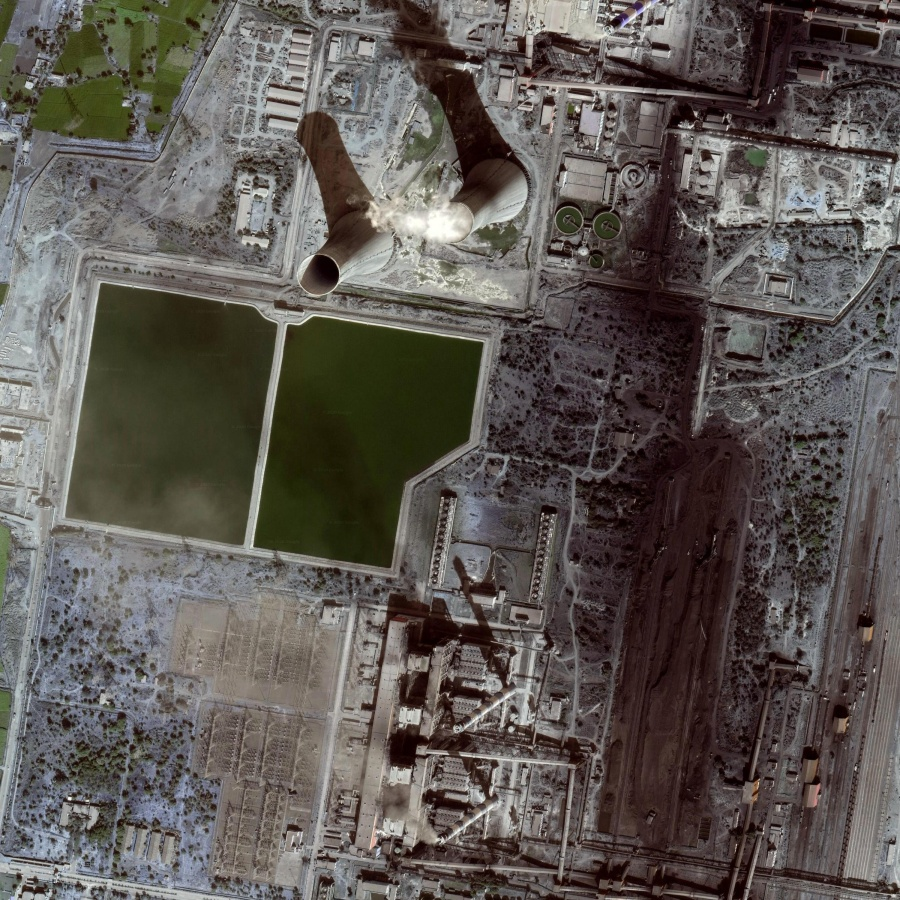PowerPlant: (52, 278, 490, 586)
